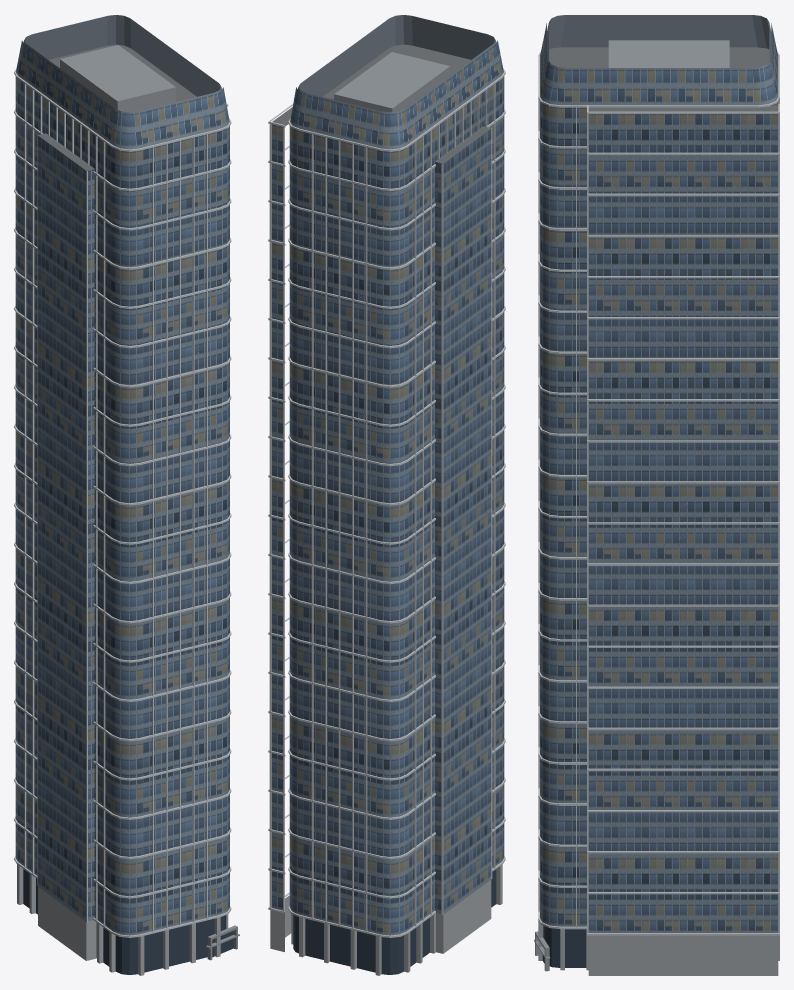
Rendered from millennium_tower.glb.
3 views of the same model, side by side, from view 1: azimuth 30°, elevation 25°; view 2: azimuth 150°, elevation 25°; view 3: azimuth 270°, elevation 25° (orthographic). The views are drawn at different scales.
Parts seen in each view (by area): view 1: millennium_tower; view 2: millennium_tower; view 3: millennium_tower.
Boxes of the visible parts, bbox=[...] form: millennium_tower: bbox=[14, 15, 239, 975]; millennium_tower: bbox=[268, 15, 505, 975]; millennium_tower: bbox=[534, 15, 779, 975].
Bounding box in the file's own units: 32.71 × 197 × 48.84.
2 materials, 2 textured.
